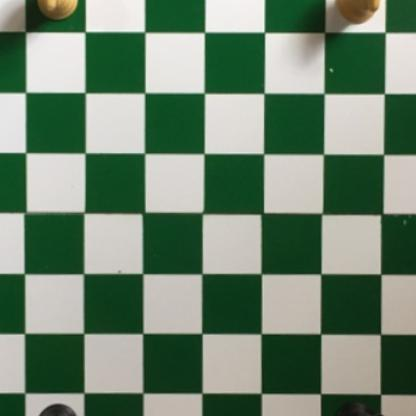black-knight: (334, 400, 387, 416), (35, 402, 79, 416)
white-knight: (334, 0, 390, 24), (36, 0, 79, 24)
